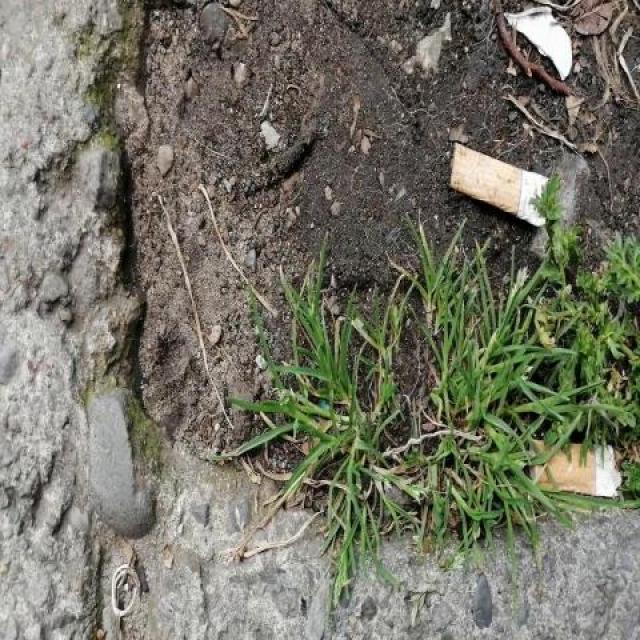non-organic waste: (444, 139, 553, 233), (524, 433, 627, 506)
